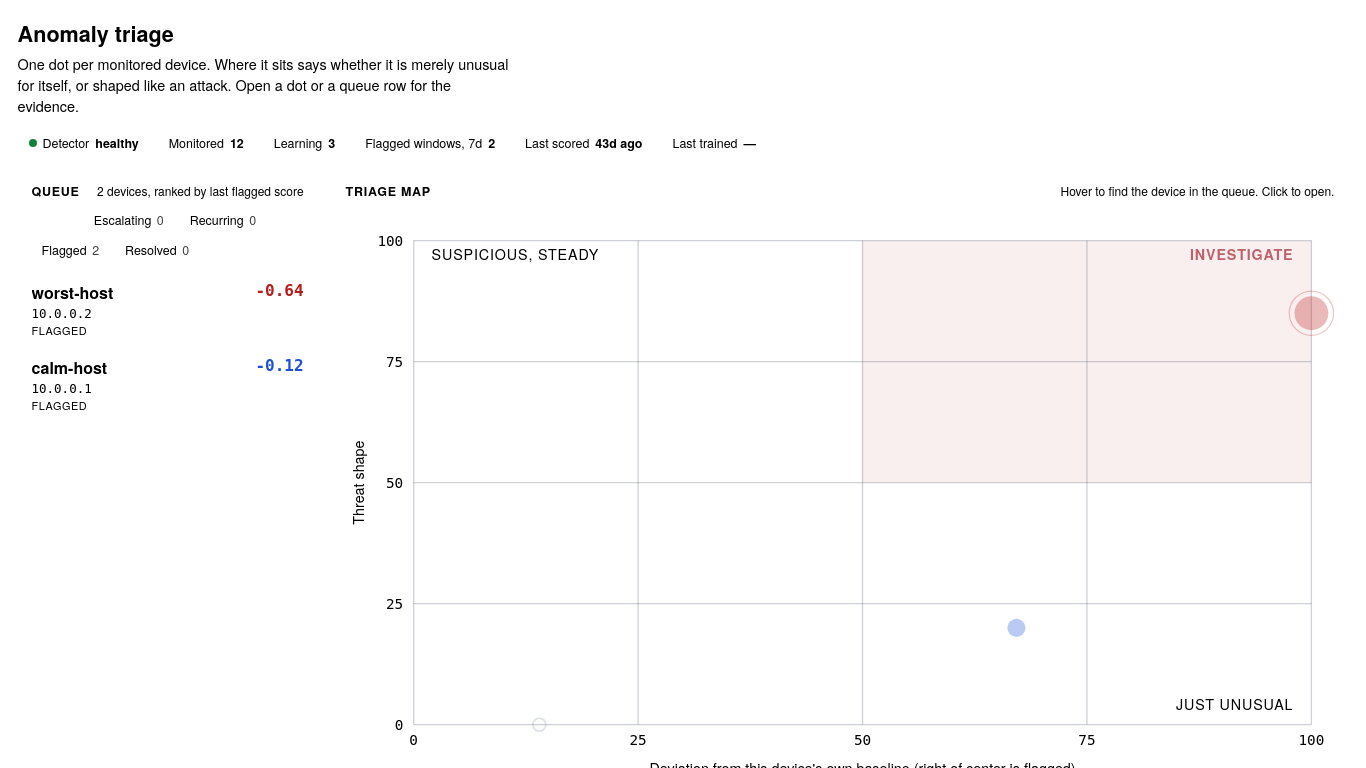
Test case: anomaly triage page › steps through the queue with Previous and Next, bounded at both ends
Click the list item "worst-host 10.0.0.2 Flagged -0.64". click: point(72, 292)
box: [18,272,318,347]
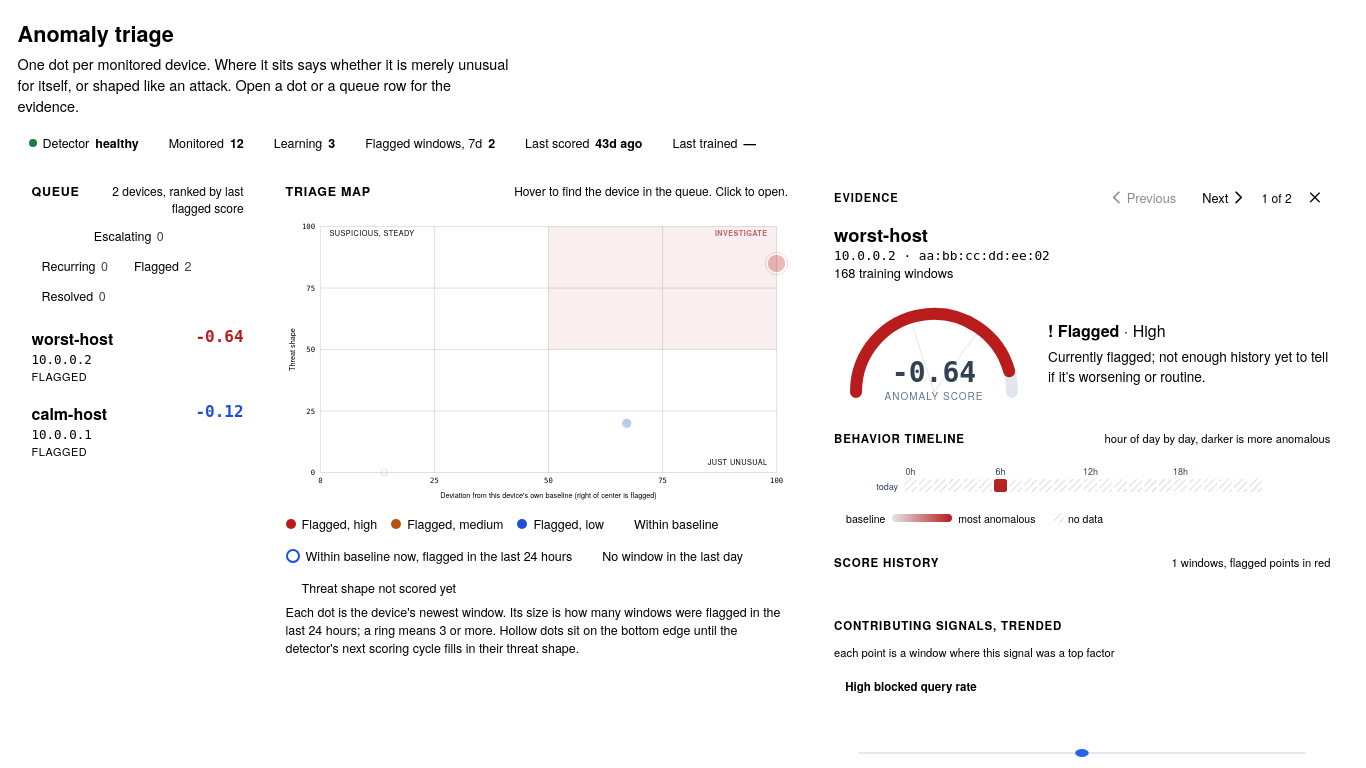
Check: the text "1 of 2" is shown, box [1262,189,1292,206]
Check: the button "Previous" is disabled, box [1101,184,1185,211]
Click the button "Next". click: point(1223, 197)
box: [1193,184,1254,211]
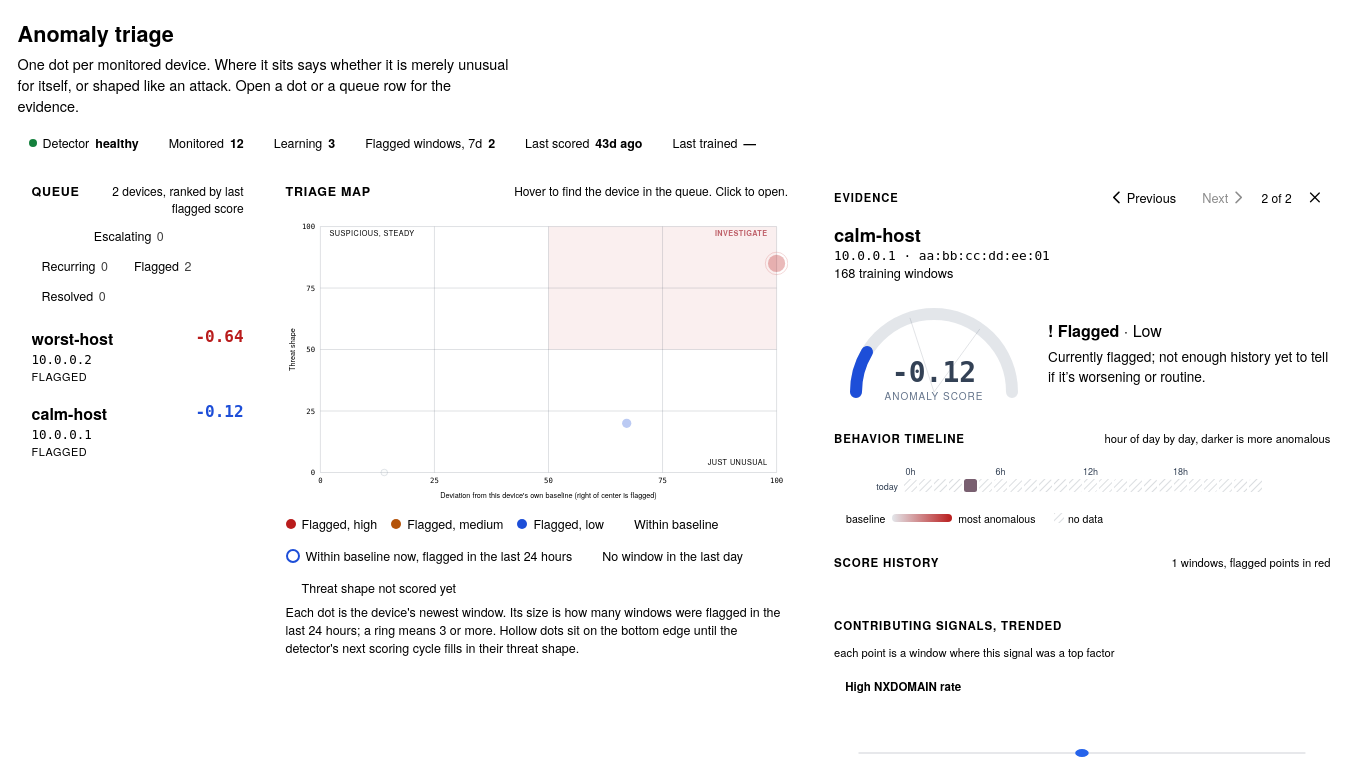
Check: the text "calm-host" is shown, box [32,402,107,425]
Check: the button "Next" is disabled, box [1193,184,1254,211]
